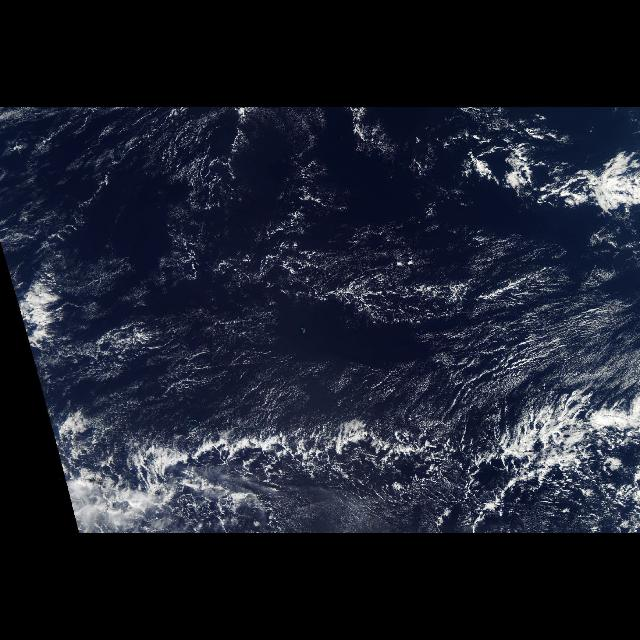Fish: (55, 401, 590, 489)
Gravel: (150, 441, 473, 527)
Sugar: (2, 110, 640, 422)
